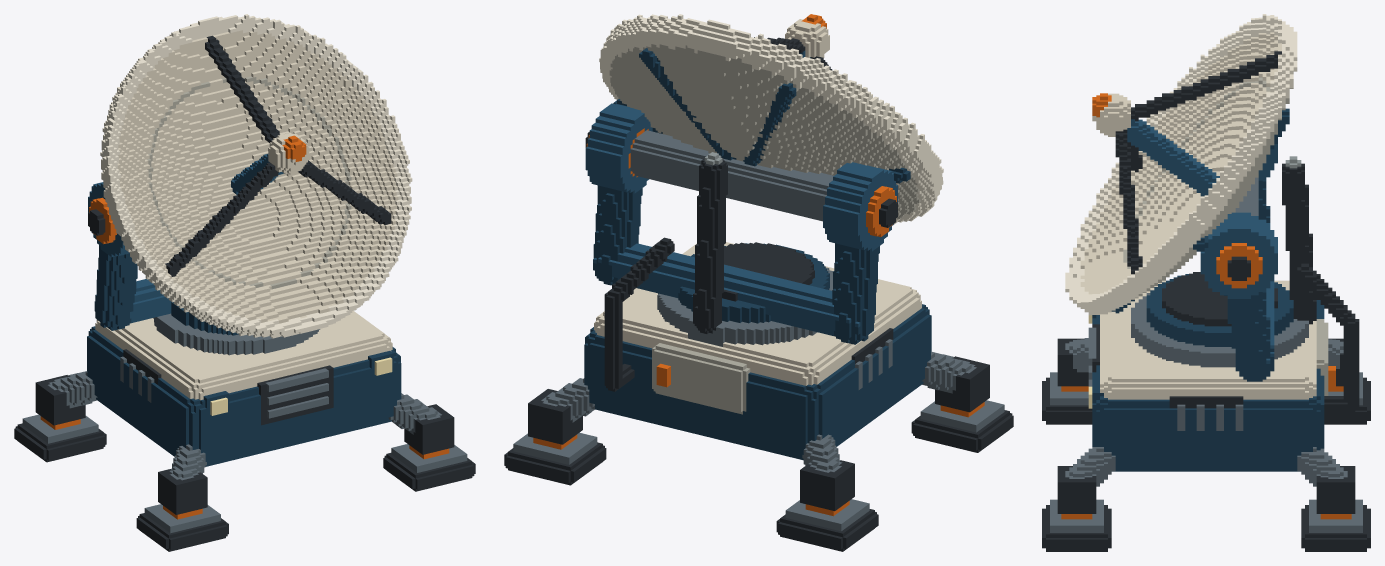
The model's file is radar.glb.
The picture shows the model from 3 angles, left to right: view 1: azimuth 30°, elevation 25°; view 2: azimuth 150°, elevation 25°; view 3: azimuth 270°, elevation 25°; orthographic projection. The views are drawn at different scales.
Visible parts, largest first — view 1: radar; view 2: radar; view 3: radar.
Part boxes in pixels (x1,y1,x2,y2): radar: [14, 14, 475, 551]; radar: [504, 14, 1013, 551]; radar: [1042, 14, 1370, 551].
Bounding box in the file's own units: 3.92 × 5 × 3.4.
